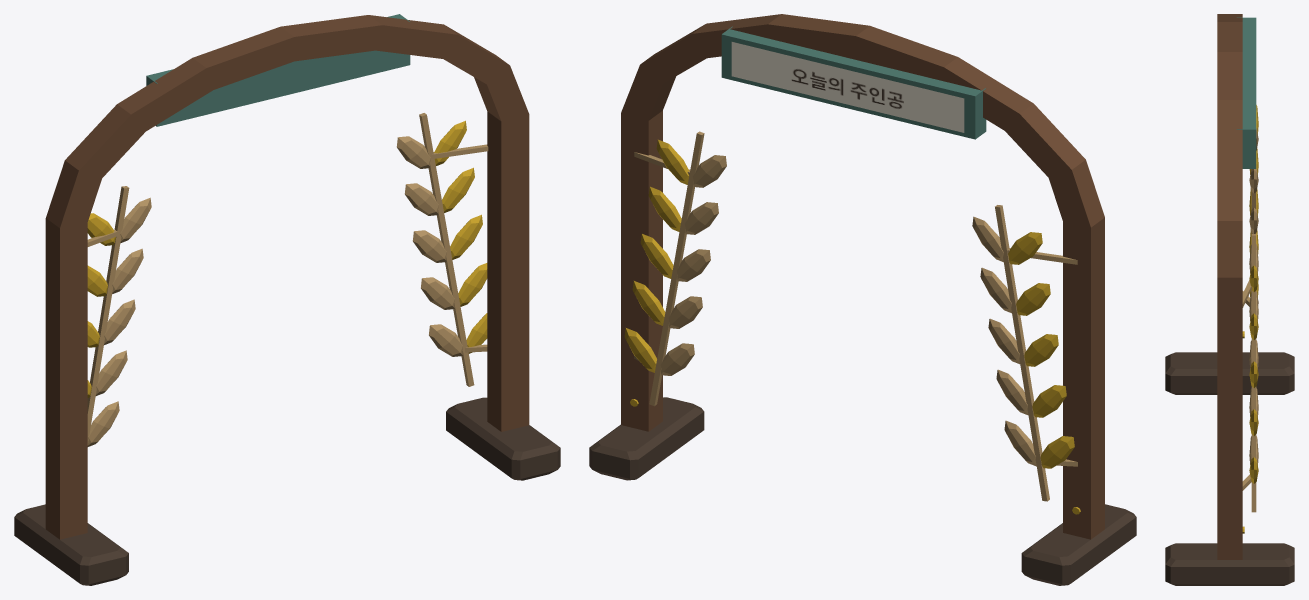
Rendered from A06_Laurel_Photo_Arch.fbx.
3 views of the same model, side by side, from view 1: azimuth 30°, elevation 25°; view 2: azimuth 150°, elevation 25°; view 3: azimuth 270°, elevation 25° (orthographic). The views are drawn at different scales.
Visible parts, largest first — view 1: Structure, Laurel, Title; view 2: Structure, Laurel, Title; view 3: Structure, Laurel, Title.
Boxes of the visible parts, box(x1,y1,x2,y2) form: Structure: box(14, 15, 560, 585); Laurel: box(87, 113, 488, 446); Title: box(146, 14, 410, 126); Structure: box(589, 14, 1136, 585); Laurel: box(624, 131, 1077, 501); Title: box(721, 26, 986, 139); Structure: box(1165, 14, 1294, 585); Laurel: box(1242, 105, 1258, 512); Title: box(1236, 17, 1256, 168).
Bounding box in the file's own units: 3.5 × 3.3 × 0.9.
6 materials, 1 textured.
